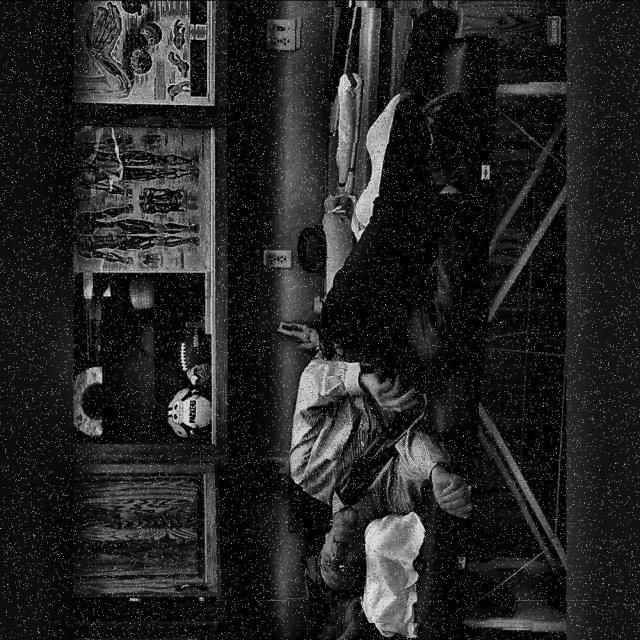Not_Supine: (289, 8, 496, 622)
